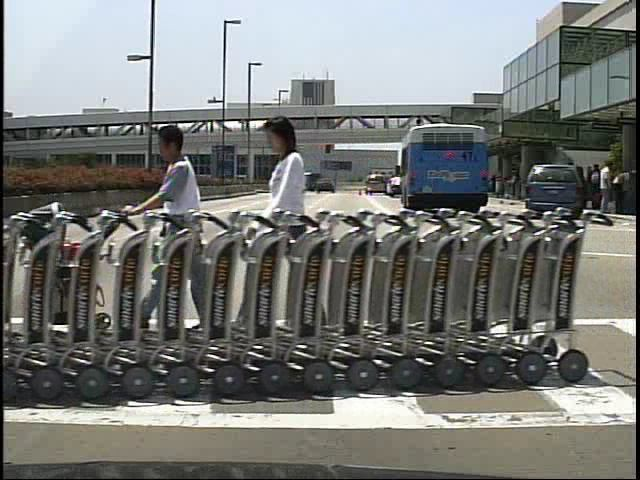person: (254, 115, 331, 349), (129, 120, 211, 339), (597, 160, 617, 213), (587, 164, 604, 214)
